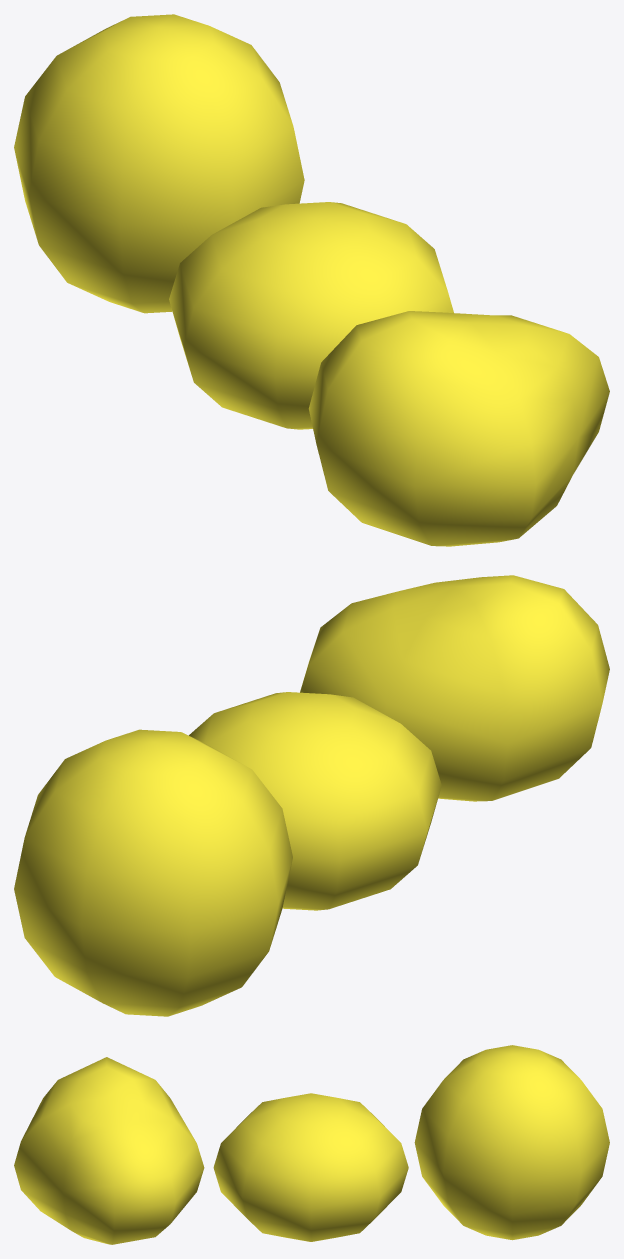
File: Blobs.fbx
3 renders of one model, top to bottom at view 1: azimuth 30°, elevation 25°; view 2: azimuth 150°, elevation 25°; view 3: azimuth 270°, elevation 25°, orthographic. The views are drawn at different scales.
Parts seen in each view (by area): view 1: OutsideBlob (×3); view 2: OutsideBlob (×3); view 3: OutsideBlob (×3).
Part boxes in pixels (x1,y1,x2,y2): OutsideBlob (×3): [14, 14, 609, 546]; OutsideBlob (×3): [14, 575, 609, 1016]; OutsideBlob (×3): [14, 1045, 609, 1244].
Size of the model in its own units: 3.15 by 2.74 by 8.35.
